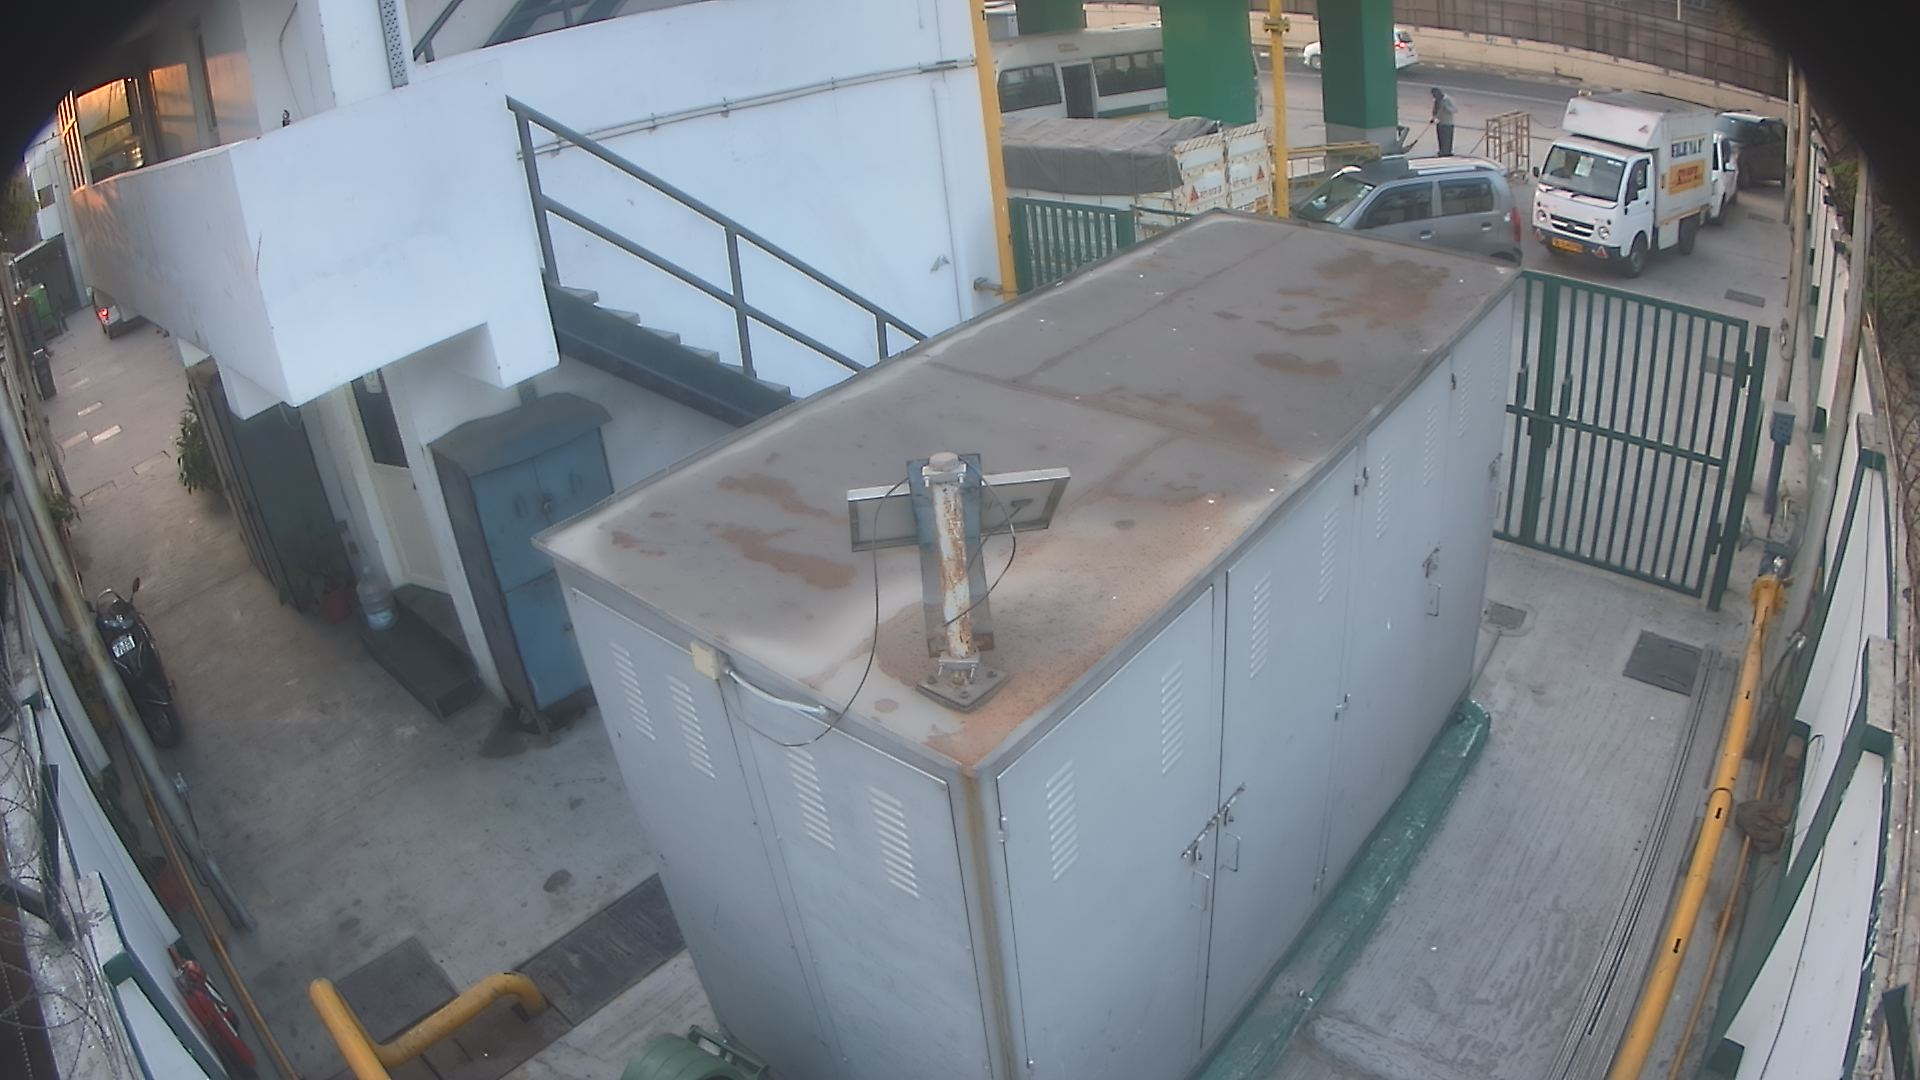Auto: (1706, 100, 1803, 196)
Bike: (70, 558, 202, 770)
Car: (1269, 138, 1539, 307), (1280, 17, 1431, 92), (78, 258, 153, 351)
HMV: (975, 83, 1296, 316), (1520, 71, 1735, 287), (967, 0, 1207, 154)
